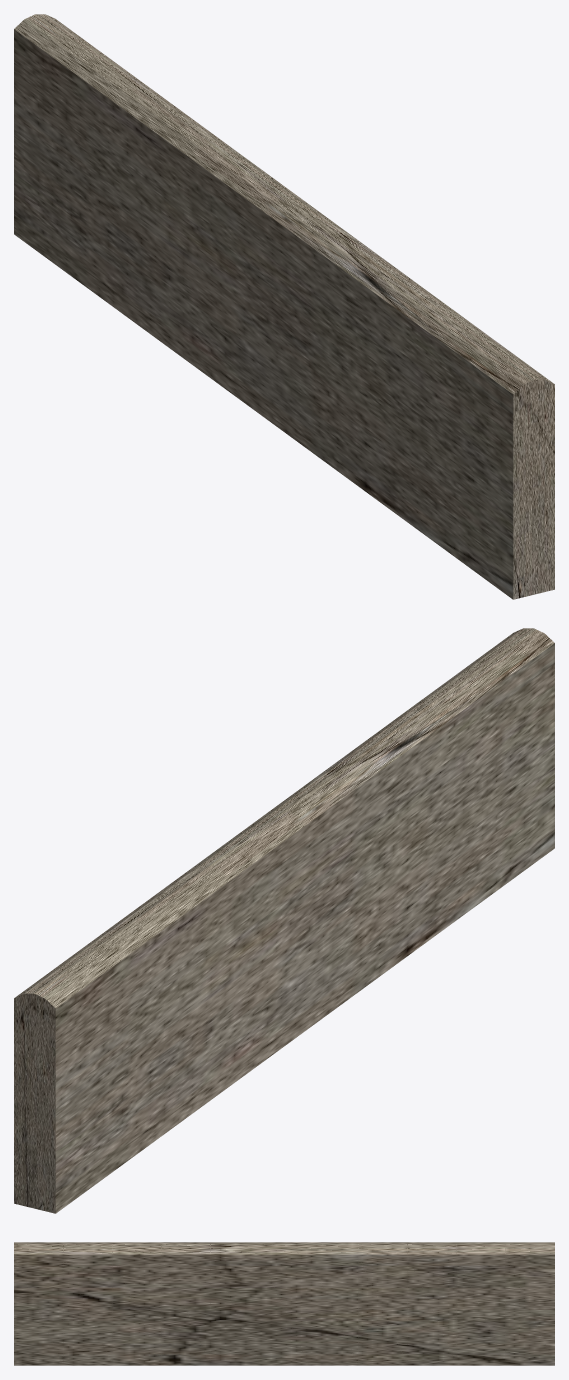
Rendered from Plain wall.fbx.
3 renders of one model, top to bottom at view 1: azimuth 30°, elevation 25°; view 2: azimuth 150°, elevation 25°; view 3: azimuth 270°, elevation 25°, orthographic. The views are drawn at different scales.
Visible parts, largest first — view 1: Cube.014; view 2: Cube.014; view 3: Cube.014.
Boxes of the visible parts, bbox=[...] form: Cube.014: bbox=[14, 14, 554, 599]; Cube.014: bbox=[14, 628, 554, 1213]; Cube.014: bbox=[14, 1242, 554, 1365].
Bounding box in the file's own units: 22.71 × 112 × 470.
